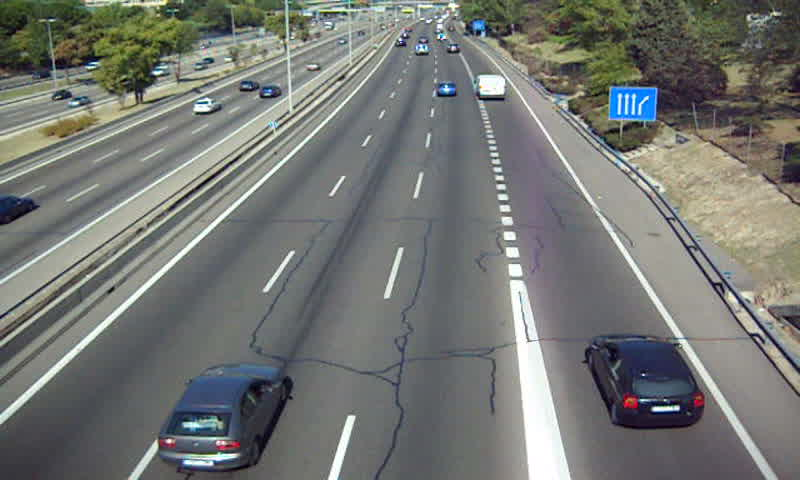car: (157, 362, 286, 470), (590, 335, 704, 428), (435, 82, 457, 98)
van: (475, 75, 507, 99)
